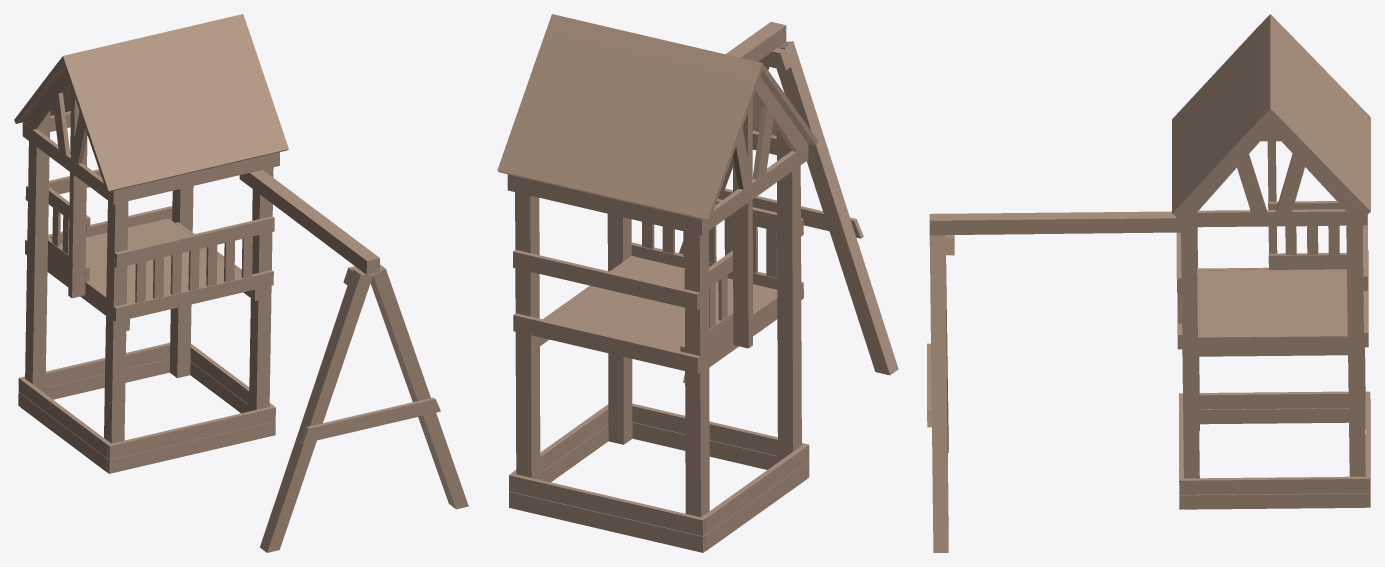
The model's file is Playground_childrenscomplex_base.fbx.
The picture shows the model from 3 angles, left to right: view 1: azimuth 30°, elevation 25°; view 2: azimuth 150°, elevation 25°; view 3: azimuth 270°, elevation 25°; orthographic projection. The views are drawn at different scales.
Visible parts, largest first — view 1: Playground_childrenscomplex_base; view 2: Playground_childrenscomplex_base; view 3: Playground_childrenscomplex_base.
Part boxes in pixels (box(x1,y1,x2,y2)): Playground_childrenscomplex_base: box(14, 14, 468, 552); Playground_childrenscomplex_base: box(497, 14, 898, 552); Playground_childrenscomplex_base: box(927, 14, 1370, 552).
Bounding box in the file's own units: 221 × 337 × 328.
